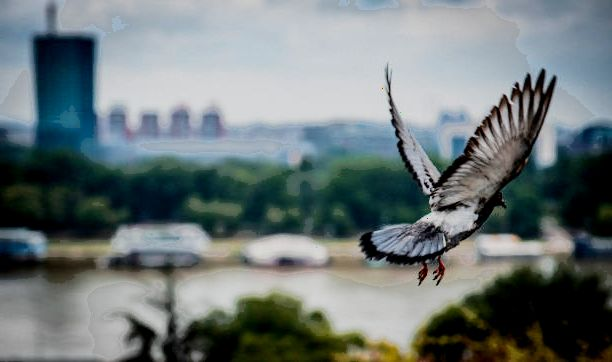Bird: (350, 56, 559, 292)
